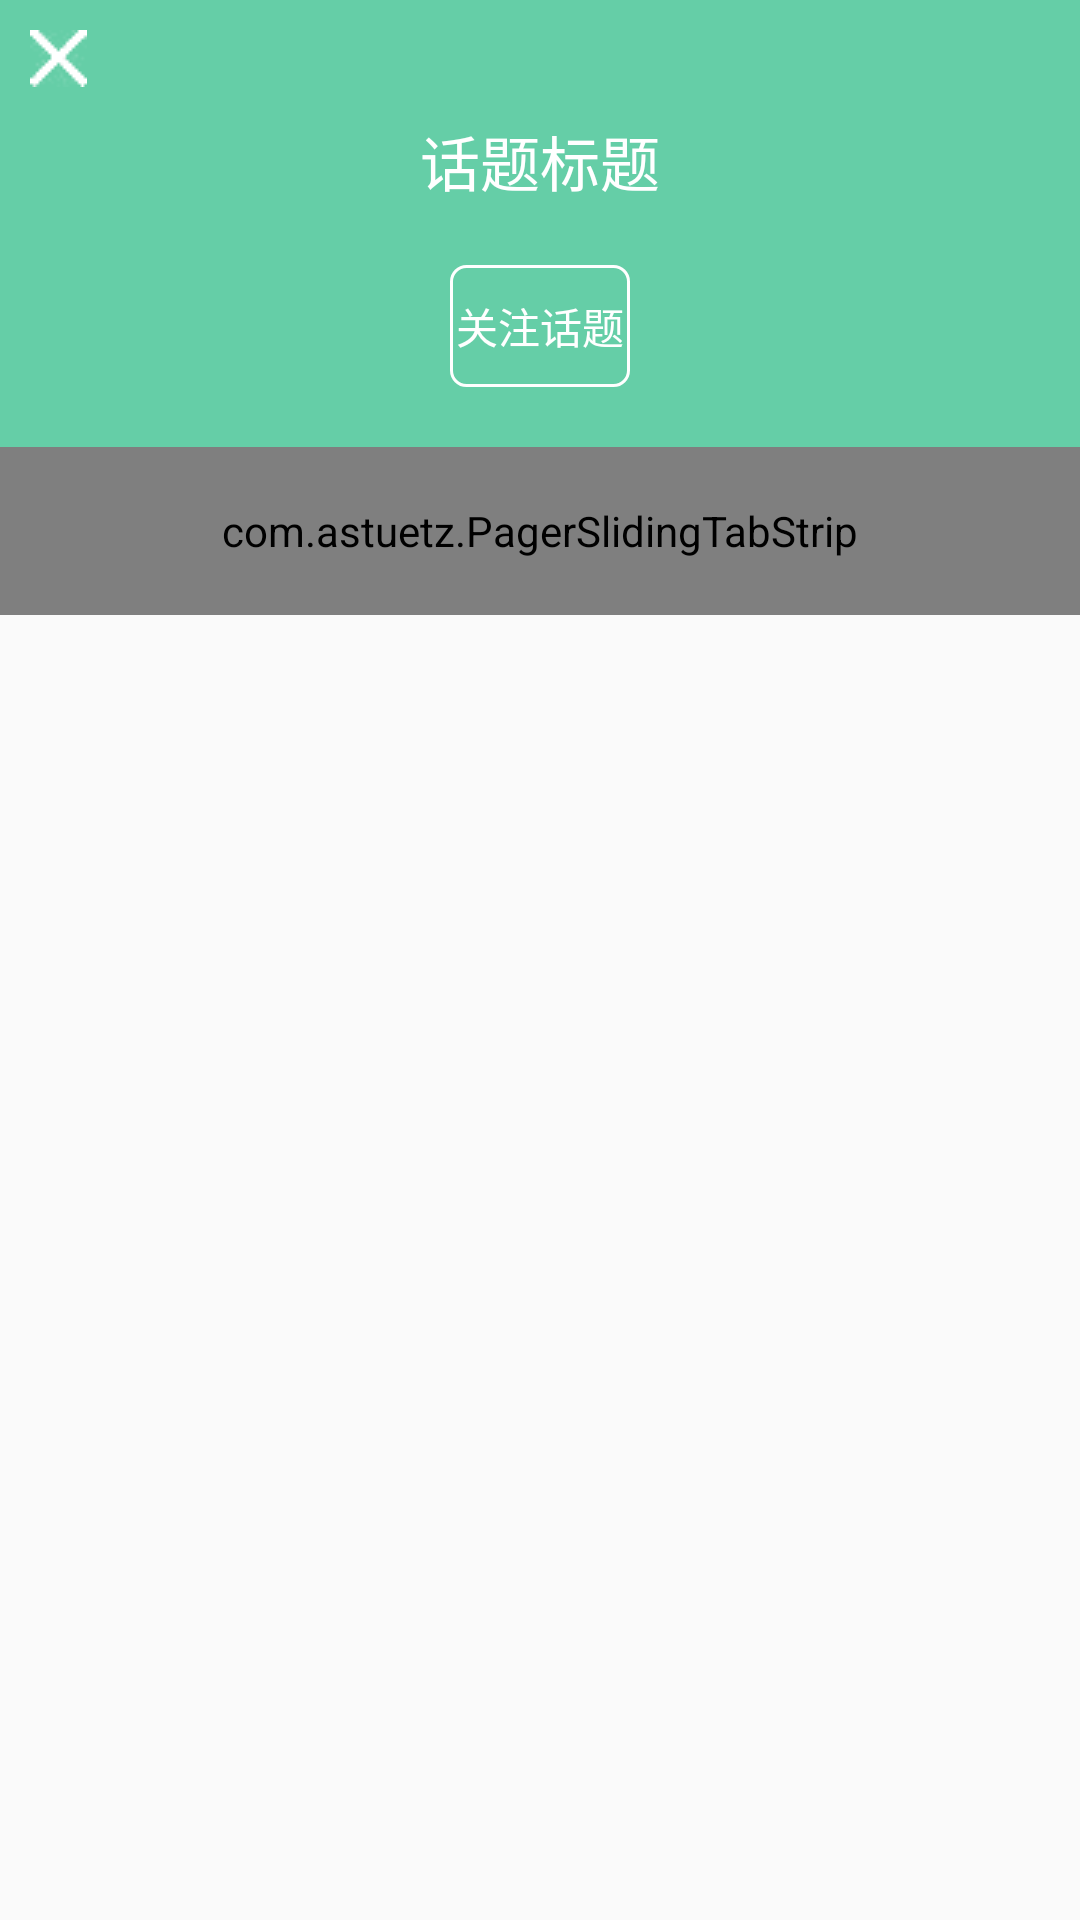

Icons on this 1080*1920 Android screen, each with the point to tap as point (x, y):
exit: point (58, 58)
